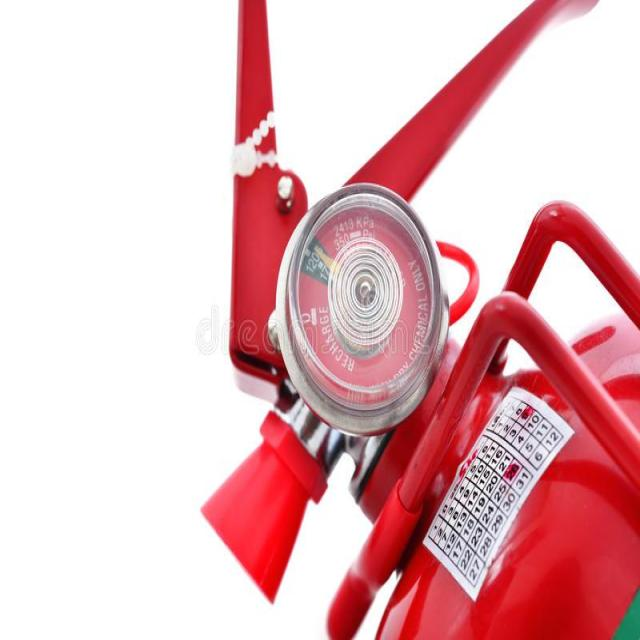fire_extinguisher: (191, 0, 639, 639)
